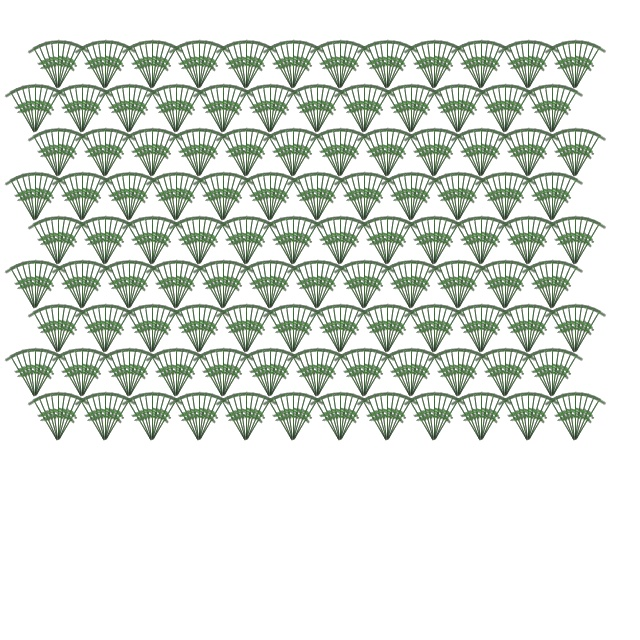fan: (26, 42, 67, 94), (51, 42, 92, 94), (73, 42, 114, 94), (98, 42, 139, 94), (120, 42, 161, 94), (145, 42, 186, 94), (167, 42, 208, 94), (192, 42, 233, 94), (214, 42, 255, 94), (239, 42, 280, 94), (261, 42, 302, 94), (286, 42, 327, 94), (308, 42, 349, 94), (333, 42, 374, 94), (355, 42, 396, 94), (380, 42, 421, 94), (402, 42, 443, 94), (427, 42, 468, 94), (449, 42, 490, 94), (474, 42, 515, 94), (496, 42, 537, 94), (521, 42, 562, 94), (543, 42, 584, 94), (568, 42, 609, 94), (3, 86, 44, 138), (28, 86, 69, 138), (50, 86, 91, 138), (75, 86, 116, 138), (97, 86, 138, 138), (122, 86, 163, 138), (144, 86, 185, 138), (169, 86, 210, 138), (191, 86, 232, 138), (216, 86, 257, 138), (238, 86, 279, 138), (263, 86, 304, 138), (285, 86, 326, 138), (310, 86, 351, 138), (332, 86, 373, 138), (357, 86, 398, 138), (379, 86, 420, 138), (404, 86, 445, 138), (426, 86, 467, 138), (451, 86, 492, 138), (473, 86, 514, 138), (498, 86, 539, 138), (520, 86, 561, 138), (545, 86, 586, 138), (26, 130, 67, 182), (51, 130, 92, 182), (73, 130, 114, 182), (98, 130, 139, 182), (120, 130, 161, 182), (145, 130, 186, 182), (167, 130, 208, 182), (192, 130, 233, 182), (214, 130, 255, 182), (239, 130, 280, 182), (261, 130, 302, 182), (286, 130, 327, 182), (308, 130, 349, 182), (333, 130, 374, 182), (355, 130, 396, 182), (380, 130, 421, 182), (402, 130, 443, 182), (427, 130, 468, 182), (449, 130, 490, 182), (474, 130, 515, 182), (496, 130, 537, 182), (521, 130, 562, 182), (543, 130, 584, 182), (568, 130, 609, 182), (3, 174, 44, 226), (28, 174, 69, 226), (50, 174, 91, 226), (75, 174, 116, 226), (97, 174, 138, 226), (122, 174, 163, 226), (144, 174, 185, 226), (169, 174, 210, 226), (191, 174, 232, 226), (216, 174, 257, 226), (238, 174, 279, 226), (263, 174, 304, 226), (285, 174, 326, 226), (310, 174, 351, 226), (332, 174, 373, 226), (357, 174, 398, 226), (379, 174, 420, 226), (404, 174, 445, 226), (426, 174, 467, 226), (451, 174, 492, 226), (473, 174, 514, 226), (498, 174, 539, 226), (520, 174, 561, 226), (545, 174, 586, 226), (26, 218, 67, 270), (51, 218, 92, 270), (73, 218, 114, 270), (98, 218, 139, 270), (120, 218, 161, 270), (145, 218, 186, 270), (167, 218, 208, 270), (192, 218, 233, 270), (214, 218, 255, 270), (239, 218, 280, 270), (261, 218, 302, 270), (286, 218, 327, 270), (308, 218, 349, 270), (333, 218, 374, 270), (355, 218, 396, 270), (380, 218, 421, 270), (402, 218, 443, 270), (427, 218, 468, 270), (449, 218, 490, 270), (474, 218, 515, 270), (496, 218, 537, 270), (521, 218, 562, 270), (543, 218, 584, 270), (568, 218, 609, 270), (3, 262, 44, 314), (28, 262, 69, 314), (50, 262, 91, 314), (75, 262, 116, 314), (97, 262, 138, 314), (122, 262, 163, 314), (144, 262, 185, 314), (169, 262, 210, 314), (191, 262, 232, 314), (216, 262, 257, 314), (238, 262, 279, 314), (263, 262, 304, 314), (285, 262, 326, 314), (310, 262, 351, 314), (332, 262, 373, 314), (357, 262, 398, 314), (379, 262, 420, 314), (404, 262, 445, 314), (426, 262, 467, 314), (451, 262, 492, 314), (473, 262, 514, 314), (498, 262, 539, 314), (520, 262, 561, 314), (545, 262, 586, 314), (26, 306, 67, 358), (51, 306, 92, 358), (73, 306, 114, 358), (98, 306, 139, 358), (120, 306, 161, 358), (145, 306, 186, 358), (167, 306, 208, 358), (192, 306, 233, 358), (214, 306, 255, 358), (239, 306, 280, 358), (261, 306, 302, 358), (286, 306, 327, 358), (308, 306, 349, 358), (333, 306, 374, 358), (355, 306, 396, 358), (380, 306, 421, 358), (402, 306, 443, 358), (427, 306, 468, 358), (449, 306, 490, 358), (474, 306, 515, 358), (496, 306, 537, 358), (521, 306, 562, 358), (543, 306, 584, 358), (568, 306, 609, 358), (3, 350, 44, 402), (28, 350, 69, 402), (50, 350, 91, 402), (75, 350, 116, 402), (97, 350, 138, 402), (122, 350, 163, 402), (144, 350, 185, 402), (169, 350, 210, 402), (191, 350, 232, 402), (216, 350, 257, 402), (238, 350, 279, 402), (263, 350, 304, 402), (285, 350, 326, 402), (310, 350, 351, 402), (332, 350, 373, 402), (357, 350, 398, 402), (379, 350, 420, 402), (404, 350, 445, 402), (426, 350, 467, 402), (451, 350, 492, 402), (473, 350, 514, 402), (498, 350, 539, 402), (520, 350, 561, 402), (545, 350, 586, 402), (26, 394, 67, 446), (51, 394, 92, 446), (73, 394, 114, 446), (98, 394, 139, 446), (120, 394, 161, 446), (145, 394, 186, 446), (167, 394, 208, 446), (192, 394, 233, 446), (214, 394, 255, 446), (239, 394, 280, 446), (261, 394, 302, 446), (286, 394, 327, 446), (308, 394, 349, 446), (333, 394, 374, 446), (355, 394, 396, 446), (380, 394, 421, 446), (402, 394, 443, 446), (427, 394, 468, 446), (449, 394, 490, 446), (474, 394, 515, 446), (496, 394, 537, 446), (521, 394, 562, 446), (543, 394, 584, 446), (568, 394, 609, 446), (32, 40, 67, 92), (51, 40, 86, 92), (79, 40, 114, 92), (98, 40, 133, 92), (126, 40, 161, 92), (145, 40, 180, 92), (173, 40, 208, 92), (192, 40, 227, 92), (220, 40, 255, 92), (239, 40, 274, 92), (267, 40, 302, 92), (286, 40, 321, 92), (314, 40, 349, 92), (333, 40, 368, 92), (361, 40, 396, 92), (380, 40, 415, 92), (408, 40, 443, 92), (427, 40, 462, 92), (455, 40, 490, 92), (474, 40, 509, 92), (502, 40, 537, 92), (521, 40, 556, 92), (549, 40, 584, 92), (568, 40, 603, 92), (9, 84, 44, 136), (28, 84, 63, 136), (56, 84, 91, 136), (75, 84, 110, 136), (103, 84, 138, 136), (122, 84, 157, 136), (150, 84, 185, 136), (169, 84, 204, 136), (197, 84, 232, 136), (216, 84, 251, 136), (244, 84, 279, 136), (263, 84, 298, 136), (291, 84, 326, 136), (310, 84, 345, 136), (338, 84, 373, 136), (357, 84, 392, 136), (385, 84, 420, 136), (404, 84, 439, 136), (432, 84, 467, 136), (451, 84, 486, 136), (479, 84, 514, 136), (498, 84, 533, 136), (526, 84, 561, 136), (545, 84, 580, 136), (32, 128, 67, 180), (51, 128, 86, 180), (79, 128, 114, 180), (98, 128, 133, 180), (126, 128, 161, 180), (145, 128, 180, 180), (173, 128, 208, 180), (192, 128, 227, 180), (220, 128, 255, 180), (239, 128, 274, 180), (267, 128, 302, 180), (286, 128, 321, 180), (314, 128, 349, 180), (333, 128, 368, 180), (361, 128, 396, 180), (380, 128, 415, 180), (408, 128, 443, 180), (427, 128, 462, 180), (455, 128, 490, 180), (474, 128, 509, 180), (502, 128, 537, 180), (521, 128, 556, 180), (549, 128, 584, 180), (568, 128, 603, 180), (9, 172, 44, 224), (28, 172, 63, 224), (56, 172, 91, 224), (75, 172, 110, 224), (103, 172, 138, 224), (122, 172, 157, 224), (150, 172, 185, 224), (169, 172, 204, 224), (197, 172, 232, 224), (216, 172, 251, 224), (244, 172, 279, 224), (263, 172, 298, 224), (291, 172, 326, 224), (310, 172, 345, 224), (338, 172, 373, 224), (357, 172, 392, 224), (385, 172, 420, 224), (404, 172, 439, 224), (432, 172, 467, 224), (451, 172, 486, 224), (479, 172, 514, 224), (498, 172, 533, 224), (526, 172, 561, 224), (545, 172, 580, 224), (32, 216, 67, 268), (51, 216, 86, 268), (79, 216, 114, 268), (98, 216, 133, 268), (126, 216, 161, 268), (145, 216, 180, 268), (173, 216, 208, 268), (192, 216, 227, 268), (220, 216, 255, 268), (239, 216, 274, 268), (267, 216, 302, 268), (286, 216, 321, 268), (314, 216, 349, 268), (333, 216, 368, 268), (361, 216, 396, 268), (380, 216, 415, 268), (408, 216, 443, 268), (427, 216, 462, 268), (455, 216, 490, 268), (474, 216, 509, 268), (502, 216, 537, 268), (521, 216, 556, 268), (549, 216, 584, 268), (568, 216, 603, 268), (9, 260, 44, 312), (28, 260, 63, 312), (56, 260, 91, 312), (75, 260, 110, 312), (103, 260, 138, 312), (122, 260, 157, 312), (150, 260, 185, 312), (169, 260, 204, 312), (197, 260, 232, 312), (216, 260, 251, 312), (244, 260, 279, 312), (263, 260, 298, 312), (291, 260, 326, 312), (310, 260, 345, 312), (338, 260, 373, 312), (357, 260, 392, 312), (385, 260, 420, 312), (404, 260, 439, 312), (432, 260, 467, 312), (451, 260, 486, 312), (479, 260, 514, 312), (498, 260, 533, 312), (526, 260, 561, 312), (545, 260, 580, 312), (32, 304, 67, 356), (51, 304, 86, 356), (79, 304, 114, 356), (98, 304, 133, 356), (126, 304, 161, 356), (145, 304, 180, 356), (173, 304, 208, 356), (192, 304, 227, 356), (220, 304, 255, 356), (239, 304, 274, 356), (267, 304, 302, 356), (286, 304, 321, 356), (314, 304, 349, 356), (333, 304, 368, 356), (361, 304, 396, 356), (380, 304, 415, 356), (408, 304, 443, 356), (427, 304, 462, 356), (455, 304, 490, 356), (474, 304, 509, 356), (502, 304, 537, 356), (521, 304, 556, 356), (549, 304, 584, 356), (568, 304, 603, 356), (9, 348, 44, 400), (28, 348, 63, 400), (56, 348, 91, 400), (75, 348, 110, 400), (103, 348, 138, 400), (122, 348, 157, 400), (150, 348, 185, 400), (169, 348, 204, 400), (197, 348, 232, 400), (216, 348, 251, 400), (244, 348, 279, 400), (263, 348, 298, 400), (291, 348, 326, 400), (310, 348, 345, 400), (338, 348, 373, 400), (357, 348, 392, 400), (385, 348, 420, 400), (404, 348, 439, 400), (432, 348, 467, 400), (451, 348, 486, 400), (479, 348, 514, 400), (498, 348, 533, 400), (526, 348, 561, 400), (545, 348, 580, 400), (32, 392, 67, 444), (51, 392, 86, 444), (79, 392, 114, 444), (98, 392, 133, 444), (126, 392, 161, 444), (145, 392, 180, 444), (173, 392, 208, 444), (192, 392, 227, 444), (220, 392, 255, 444), (239, 392, 274, 444), (267, 392, 302, 444), (286, 392, 321, 444), (314, 392, 349, 444), (333, 392, 368, 444), (361, 392, 396, 444), (380, 392, 415, 444), (408, 392, 443, 444), (427, 392, 462, 444), (455, 392, 490, 444), (474, 392, 509, 444), (502, 392, 537, 444), (521, 392, 556, 444), (549, 392, 584, 444), (568, 392, 603, 444), (37, 39, 68, 91), (50, 39, 81, 91), (84, 39, 115, 91), (97, 39, 128, 91), (131, 39, 162, 91), (144, 39, 175, 91), (178, 39, 209, 91), (191, 39, 222, 91), (225, 39, 256, 91), (238, 39, 269, 91), (272, 39, 303, 91), (285, 39, 316, 91), (319, 39, 350, 91), (332, 39, 363, 91), (366, 39, 397, 91), (379, 39, 410, 91), (413, 39, 444, 91), (426, 39, 457, 91), (460, 39, 491, 91), (473, 39, 504, 91), (507, 39, 538, 91), (520, 39, 551, 91), (554, 39, 585, 91), (567, 39, 598, 91), (14, 83, 45, 135), (27, 83, 58, 135), (61, 83, 92, 135), (74, 83, 105, 135), (108, 83, 139, 135), (121, 83, 152, 135), (155, 83, 186, 135), (168, 83, 199, 135), (202, 83, 233, 135), (215, 83, 246, 135), (249, 83, 280, 135), (262, 83, 293, 135), (296, 83, 327, 135), (309, 83, 340, 135), (343, 83, 374, 135), (356, 83, 387, 135), (390, 83, 421, 135), (403, 83, 434, 135), (437, 83, 468, 135), (450, 83, 481, 135), (484, 83, 515, 135), (497, 83, 528, 135), (531, 83, 562, 135), (544, 83, 575, 135), (37, 127, 68, 179), (50, 127, 81, 179), (84, 127, 115, 179), (97, 127, 128, 179), (131, 127, 162, 179), (144, 127, 175, 179), (178, 127, 209, 179), (191, 127, 222, 179), (225, 127, 256, 179), (238, 127, 269, 179), (272, 127, 303, 179), (285, 127, 316, 179), (319, 127, 350, 179), (332, 127, 363, 179), (366, 127, 397, 179), (379, 127, 410, 179), (413, 127, 444, 179), (426, 127, 457, 179), (460, 127, 491, 179), (473, 127, 504, 179), (507, 127, 538, 179), (520, 127, 551, 179), (554, 127, 585, 179), (567, 127, 598, 179), (14, 171, 45, 223), (27, 171, 58, 223), (61, 171, 92, 223), (74, 171, 105, 223), (108, 171, 139, 223), (121, 171, 152, 223), (155, 171, 186, 223), (168, 171, 199, 223), (202, 171, 233, 223), (215, 171, 246, 223), (249, 171, 280, 223), (262, 171, 293, 223), (296, 171, 327, 223), (309, 171, 340, 223), (343, 171, 374, 223), (356, 171, 387, 223), (390, 171, 421, 223), (403, 171, 434, 223), (437, 171, 468, 223), (450, 171, 481, 223), (484, 171, 515, 223), (497, 171, 528, 223), (531, 171, 562, 223), (544, 171, 575, 223), (37, 215, 68, 267), (50, 215, 81, 267), (84, 215, 115, 267), (97, 215, 128, 267), (131, 215, 162, 267), (144, 215, 175, 267), (178, 215, 209, 267), (191, 215, 222, 267), (225, 215, 256, 267), (238, 215, 269, 267), (272, 215, 303, 267), (285, 215, 316, 267), (319, 215, 350, 267), (332, 215, 363, 267), (366, 215, 397, 267), (379, 215, 410, 267), (413, 215, 444, 267), (426, 215, 457, 267), (460, 215, 491, 267), (473, 215, 504, 267), (507, 215, 538, 267), (520, 215, 551, 267), (554, 215, 585, 267), (567, 215, 598, 267), (14, 259, 45, 311), (27, 259, 58, 311), (61, 259, 92, 311), (74, 259, 105, 311), (108, 259, 139, 311), (121, 259, 152, 311), (155, 259, 186, 311), (168, 259, 199, 311), (202, 259, 233, 311), (215, 259, 246, 311), (249, 259, 280, 311), (262, 259, 293, 311), (296, 259, 327, 311), (309, 259, 340, 311), (343, 259, 374, 311), (356, 259, 387, 311), (390, 259, 421, 311), (403, 259, 434, 311), (437, 259, 468, 311), (450, 259, 481, 311), (484, 259, 515, 311), (497, 259, 528, 311), (531, 259, 562, 311), (544, 259, 575, 311), (37, 303, 68, 355), (50, 303, 81, 355), (84, 303, 115, 355), (97, 303, 128, 355), (131, 303, 162, 355), (144, 303, 175, 355), (178, 303, 209, 355), (191, 303, 222, 355), (225, 303, 256, 355), (238, 303, 269, 355), (272, 303, 303, 355), (285, 303, 316, 355), (319, 303, 350, 355), (332, 303, 363, 355), (366, 303, 397, 355), (379, 303, 410, 355), (413, 303, 444, 355), (426, 303, 457, 355), (460, 303, 491, 355), (473, 303, 504, 355), (507, 303, 538, 355), (520, 303, 551, 355), (554, 303, 585, 355), (567, 303, 598, 355), (14, 347, 45, 399), (27, 347, 58, 399), (61, 347, 92, 399), (74, 347, 105, 399), (108, 347, 139, 399), (121, 347, 152, 399), (155, 347, 186, 399), (168, 347, 199, 399), (202, 347, 233, 399), (215, 347, 246, 399), (249, 347, 280, 399), (262, 347, 293, 399), (296, 347, 327, 399), (309, 347, 340, 399), (343, 347, 374, 399), (356, 347, 387, 399), (390, 347, 421, 399), (403, 347, 434, 399), (437, 347, 468, 399), (450, 347, 481, 399), (484, 347, 515, 399), (497, 347, 528, 399), (531, 347, 562, 399), (544, 347, 575, 399), (37, 391, 68, 443), (50, 391, 81, 443), (84, 391, 115, 443), (97, 391, 128, 443), (131, 391, 162, 443), (144, 391, 175, 443), (178, 391, 209, 443), (191, 391, 222, 443), (225, 391, 256, 443), (238, 391, 269, 443), (272, 391, 303, 443), (285, 391, 316, 443), (319, 391, 350, 443), (332, 391, 363, 443), (366, 391, 397, 443), (379, 391, 410, 443), (413, 391, 444, 443), (426, 391, 457, 443), (460, 391, 491, 443), (473, 391, 504, 443), (507, 391, 538, 443), (520, 391, 551, 443), (554, 391, 585, 443), (567, 391, 598, 443), (44, 39, 68, 90), (50, 39, 74, 90), (91, 39, 115, 90), (97, 39, 121, 90), (138, 39, 162, 90), (144, 39, 168, 90), (185, 39, 209, 90), (191, 39, 215, 90), (232, 39, 256, 90), (238, 39, 262, 90), (279, 39, 303, 90), (285, 39, 309, 90), (326, 39, 350, 90), (332, 39, 356, 90), (373, 39, 397, 90), (379, 39, 403, 90), (420, 39, 444, 90), (426, 39, 450, 90), (467, 39, 491, 90), (473, 39, 497, 90), (514, 39, 538, 90), (520, 39, 544, 90), (561, 39, 585, 90), (567, 39, 591, 90), (21, 83, 45, 134), (27, 83, 51, 134), (68, 83, 92, 134), (74, 83, 98, 134), (115, 83, 139, 134), (121, 83, 145, 134), (162, 83, 186, 134), (168, 83, 192, 134), (209, 83, 233, 134), (215, 83, 239, 134), (256, 83, 280, 134), (262, 83, 286, 134), (303, 83, 327, 134), (309, 83, 333, 134), (350, 83, 374, 134), (356, 83, 380, 134), (397, 83, 421, 134), (403, 83, 427, 134), (444, 83, 468, 134), (450, 83, 474, 134), (491, 83, 515, 134), (497, 83, 521, 134), (538, 83, 562, 134), (544, 83, 568, 134), (44, 127, 68, 178), (50, 127, 74, 178), (91, 127, 115, 178), (97, 127, 121, 178), (138, 127, 162, 178), (144, 127, 168, 178), (185, 127, 209, 178), (191, 127, 215, 178), (232, 127, 256, 178), (238, 127, 262, 178), (279, 127, 303, 178), (285, 127, 309, 178), (326, 127, 350, 178), (332, 127, 356, 178), (373, 127, 397, 178), (379, 127, 403, 178), (420, 127, 444, 178), (426, 127, 450, 178), (467, 127, 491, 178), (473, 127, 497, 178), (514, 127, 538, 178), (520, 127, 544, 178), (561, 127, 585, 178), (567, 127, 591, 178), (21, 171, 45, 222), (27, 171, 51, 222), (68, 171, 92, 222), (74, 171, 98, 222), (115, 171, 139, 222), (121, 171, 145, 222), (162, 171, 186, 222), (168, 171, 192, 222), (209, 171, 233, 222), (215, 171, 239, 222), (256, 171, 280, 222), (262, 171, 286, 222), (303, 171, 327, 222), (309, 171, 333, 222), (350, 171, 374, 222), (356, 171, 380, 222), (397, 171, 421, 222), (403, 171, 427, 222), (444, 171, 468, 222), (450, 171, 474, 222), (491, 171, 515, 222), (497, 171, 521, 222), (538, 171, 562, 222), (544, 171, 568, 222), (44, 215, 68, 266), (50, 215, 74, 266), (91, 215, 115, 266), (97, 215, 121, 266), (138, 215, 162, 266), (144, 215, 168, 266), (185, 215, 209, 266), (191, 215, 215, 266), (232, 215, 256, 266), (238, 215, 262, 266), (279, 215, 303, 266), (285, 215, 309, 266), (326, 215, 350, 266), (332, 215, 356, 266), (373, 215, 397, 266), (379, 215, 403, 266), (420, 215, 444, 266), (426, 215, 450, 266), (467, 215, 491, 266), (473, 215, 497, 266), (514, 215, 538, 266), (520, 215, 544, 266), (561, 215, 585, 266), (567, 215, 591, 266), (21, 259, 45, 310), (27, 259, 51, 310), (68, 259, 92, 310), (74, 259, 98, 310), (115, 259, 139, 310), (121, 259, 145, 310), (162, 259, 186, 310), (168, 259, 192, 310), (209, 259, 233, 310), (215, 259, 239, 310), (256, 259, 280, 310), (262, 259, 286, 310), (303, 259, 327, 310), (309, 259, 333, 310), (350, 259, 374, 310), (356, 259, 380, 310), (397, 259, 421, 310), (403, 259, 427, 310), (444, 259, 468, 310), (450, 259, 474, 310), (491, 259, 515, 310), (497, 259, 521, 310), (538, 259, 562, 310), (544, 259, 568, 310), (44, 303, 68, 354), (50, 303, 74, 354), (91, 303, 115, 354), (97, 303, 121, 354), (138, 303, 162, 354), (144, 303, 168, 354), (185, 303, 209, 354), (191, 303, 215, 354), (232, 303, 256, 354), (238, 303, 262, 354), (279, 303, 303, 354), (285, 303, 309, 354), (326, 303, 350, 354), (332, 303, 356, 354), (373, 303, 397, 354), (379, 303, 403, 354), (420, 303, 444, 354), (426, 303, 450, 354), (467, 303, 491, 354), (473, 303, 497, 354), (514, 303, 538, 354), (520, 303, 544, 354), (561, 303, 585, 354), (567, 303, 591, 354), (21, 347, 45, 398), (27, 347, 51, 398), (68, 347, 92, 398), (74, 347, 98, 398), (115, 347, 139, 398), (121, 347, 145, 398), (162, 347, 186, 398), (168, 347, 192, 398), (209, 347, 233, 398), (215, 347, 239, 398), (256, 347, 280, 398), (262, 347, 286, 398), (303, 347, 327, 398), (309, 347, 333, 398), (350, 347, 374, 398), (356, 347, 380, 398), (397, 347, 421, 398), (403, 347, 427, 398), (444, 347, 468, 398), (450, 347, 474, 398), (491, 347, 515, 398), (497, 347, 521, 398), (538, 347, 562, 398), (544, 347, 568, 398), (44, 391, 68, 442), (50, 391, 74, 442), (91, 391, 115, 442), (97, 391, 121, 442), (138, 391, 162, 442), (144, 391, 168, 442), (185, 391, 209, 442), (191, 391, 215, 442), (232, 391, 256, 442), (238, 391, 262, 442), (279, 391, 303, 442), (285, 391, 309, 442), (326, 391, 350, 442), (332, 391, 356, 442), (373, 391, 397, 442), (379, 391, 403, 442), (420, 391, 444, 442), (426, 391, 450, 442), (467, 391, 491, 442), (473, 391, 497, 442), (514, 391, 538, 442), (520, 391, 544, 442), (561, 391, 585, 442), (567, 391, 591, 442), (50, 40, 68, 89), (97, 40, 115, 89), (144, 40, 162, 89), (191, 40, 209, 89), (238, 40, 256, 89), (285, 40, 303, 89), (332, 40, 350, 89), (379, 40, 397, 89), (426, 40, 444, 89), (473, 40, 491, 89), (520, 40, 538, 89), (567, 40, 585, 89), (27, 84, 45, 133), (74, 84, 92, 133), (121, 84, 139, 133), (168, 84, 186, 133), (215, 84, 233, 133), (262, 84, 280, 133), (309, 84, 327, 133), (356, 84, 374, 133), (403, 84, 421, 133), (450, 84, 468, 133), (497, 84, 515, 133), (544, 84, 562, 133), (50, 128, 68, 177), (97, 128, 115, 177), (144, 128, 162, 177), (191, 128, 209, 177), (238, 128, 256, 177), (285, 128, 303, 177), (332, 128, 350, 177), (379, 128, 397, 177), (426, 128, 444, 177), (473, 128, 491, 177), (520, 128, 538, 177), (567, 128, 585, 177), (27, 172, 45, 221), (74, 172, 92, 221), (121, 172, 139, 221), (168, 172, 186, 221), (215, 172, 233, 221), (262, 172, 280, 221), (309, 172, 327, 221), (356, 172, 374, 221), (403, 172, 421, 221), (450, 172, 468, 221), (497, 172, 515, 221), (544, 172, 562, 221), (50, 216, 68, 265), (97, 216, 115, 265), (144, 216, 162, 265), (191, 216, 209, 265), (238, 216, 256, 265), (285, 216, 303, 265), (332, 216, 350, 265), (379, 216, 397, 265), (426, 216, 444, 265), (473, 216, 491, 265), (520, 216, 538, 265), (567, 216, 585, 265), (27, 260, 45, 309), (74, 260, 92, 309), (121, 260, 139, 309), (168, 260, 186, 309), (215, 260, 233, 309), (262, 260, 280, 309), (309, 260, 327, 309), (356, 260, 374, 309), (403, 260, 421, 309), (450, 260, 468, 309), (497, 260, 515, 309), (544, 260, 562, 309), (50, 304, 68, 353), (97, 304, 115, 353), (144, 304, 162, 353), (191, 304, 209, 353), (238, 304, 256, 353), (285, 304, 303, 353), (332, 304, 350, 353), (379, 304, 397, 353), (426, 304, 444, 353), (473, 304, 491, 353), (520, 304, 538, 353), (567, 304, 585, 353), (27, 348, 45, 397), (74, 348, 92, 397), (121, 348, 139, 397), (168, 348, 186, 397), (215, 348, 233, 397), (262, 348, 280, 397), (309, 348, 327, 397), (356, 348, 374, 397), (403, 348, 421, 397), (450, 348, 468, 397), (497, 348, 515, 397), (544, 348, 562, 397), (50, 392, 68, 441), (97, 392, 115, 441), (144, 392, 162, 441), (191, 392, 209, 441), (238, 392, 256, 441), (285, 392, 303, 441), (332, 392, 350, 441), (379, 392, 397, 441), (426, 392, 444, 441), (473, 392, 491, 441), (520, 392, 538, 441), (567, 392, 585, 441)
